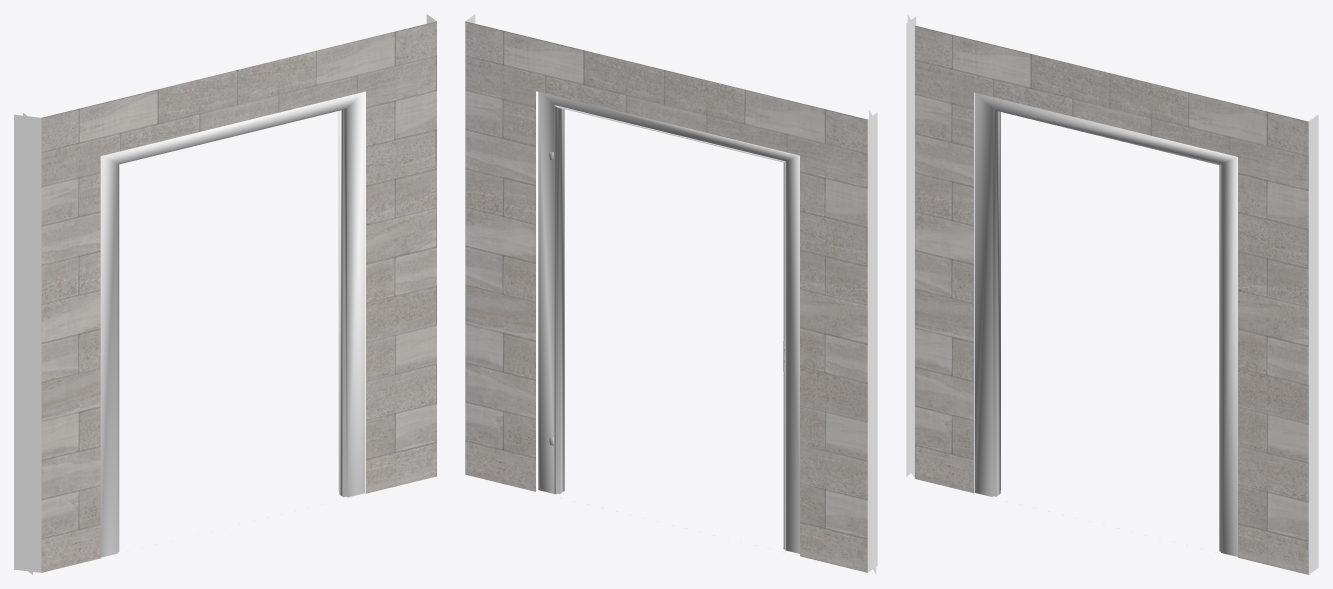
3 renders of one model, left to right at view 1: azimuth 30°, elevation 25°; view 2: azimuth 150°, elevation 25°; view 3: azimuth 330°, elevation 25°, orthographic.
Parts seen in each view (by area): view 1: wall, mesh_7, mesh_48, mesh_21; view 2: wall, mesh_7, mesh_21, mesh_48; view 3: wall, mesh_7, mesh_86, mesh_21, mesh_48, mesh_89.
Part boxes in pixels (box(x1,y1,x2,y2)): wall: box(41, 21, 436, 572); mesh_7: box(100, 91, 365, 557); mesh_48: box(14, 114, 41, 572); mesh_21: box(23, 113, 32, 574); wall: box(465, 21, 867, 572); mesh_7: box(538, 92, 799, 553); mesh_21: box(867, 112, 877, 572); mesh_48: box(869, 110, 876, 574); wall: box(915, 25, 1308, 574); mesh_7: box(974, 93, 1237, 556); mesh_86: box(1308, 114, 1318, 574); mesh_21: box(906, 16, 916, 476); mesh_48: box(907, 14, 914, 478); mesh_89: box(1308, 116, 1318, 573).
Bounding box in the file's own units: 23.72 × 25 × 1.
Materials: 13 (2 with a texture image).
